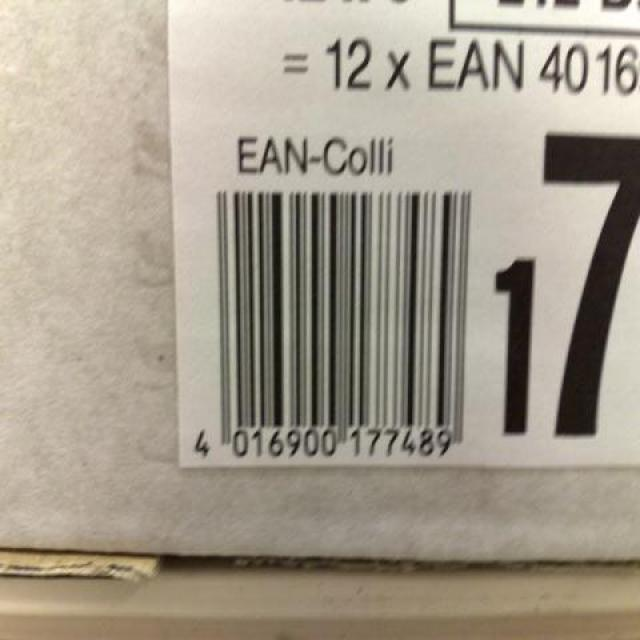Barcode: (185, 180, 487, 465)
